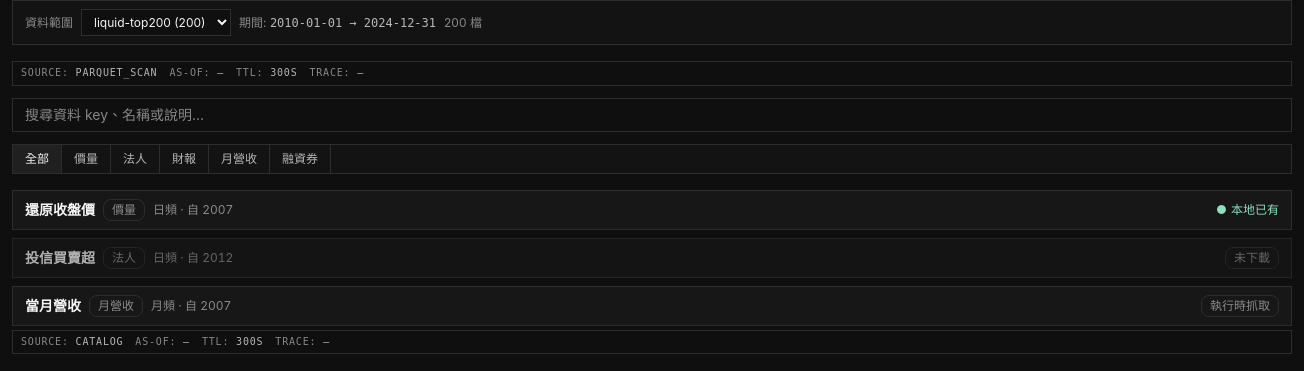
Test: DatasetCatalog › search matches description (not just key/name)
This screenshot has width=1304, height=371.
Check: the text "還原收盤價" is shown, box [25,200,95,220]
Note: "公告" appears only in the monthly-revenue *description*, nowhere in key/name
Type "公告" into the field labelled "搜尋資料 key、名稱或說明…" at {"x": 652, "y": 114}, box [12,98,1292,132]
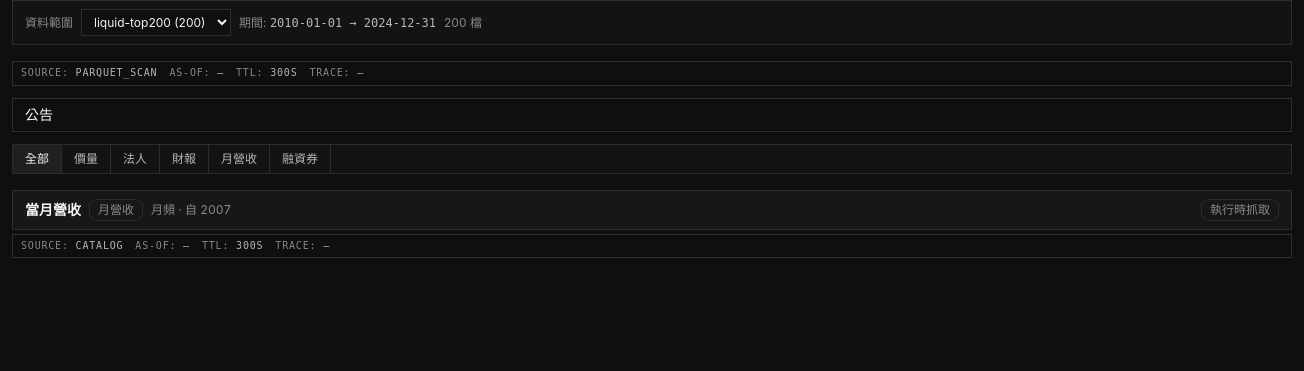
Check: the text "當月營收" is shown, box [25,200,81,220]
Check: the heading "還原收盤價" is gone
Check: the heading "投信買賣超" is gone
